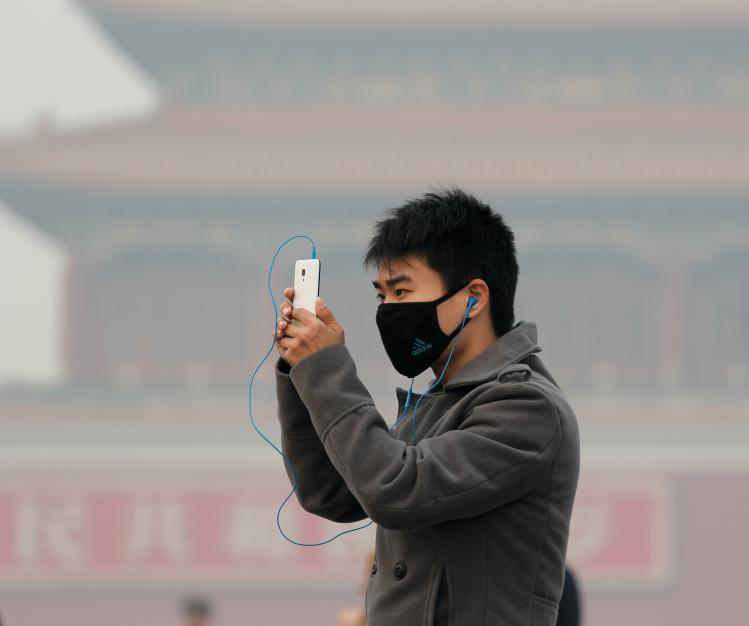person: (270, 185, 580, 626)
